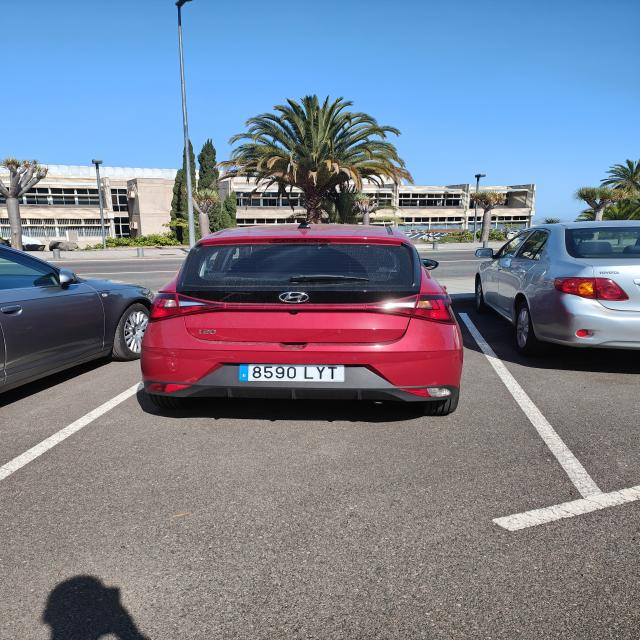License-Plate: (240, 363, 345, 383)
